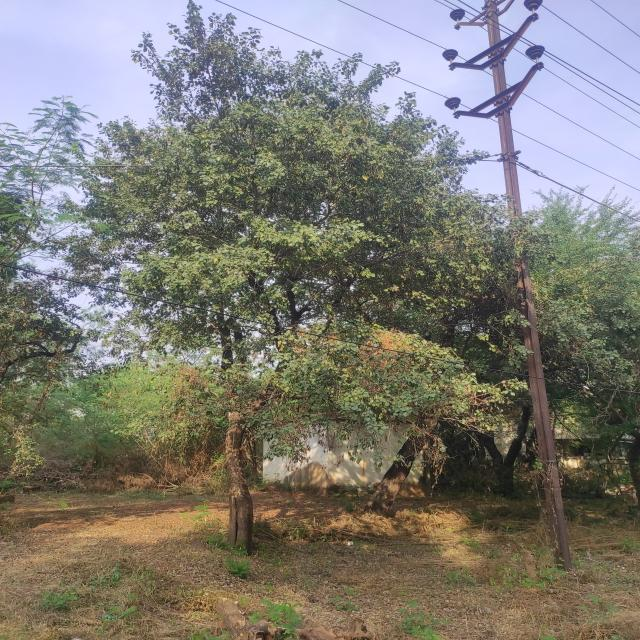Devakanchan tree: (141, 76, 437, 528)
